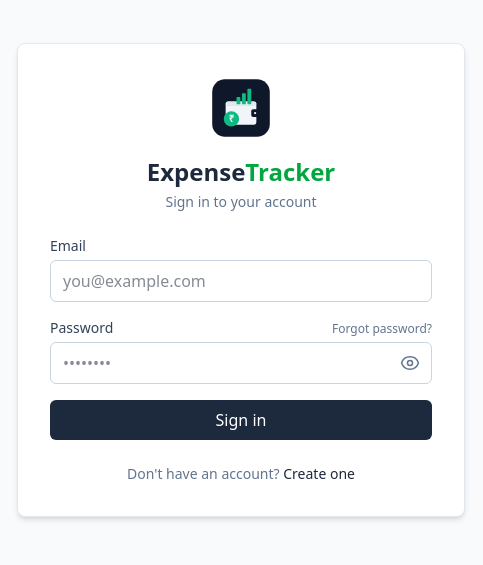
Test: LoginPage › shows backend error detail on failure
Type "a@b.com" into the field labelled "Email" at (241, 281), box [50, 260, 432, 302]
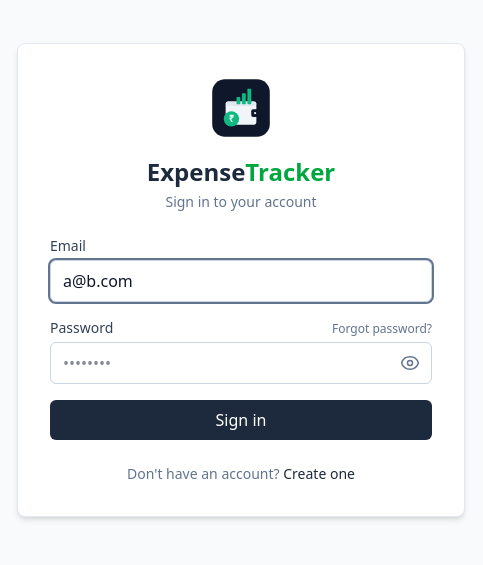
Type "wrong" into the password field labelled "Password" at (241, 363), box [50, 342, 432, 384]
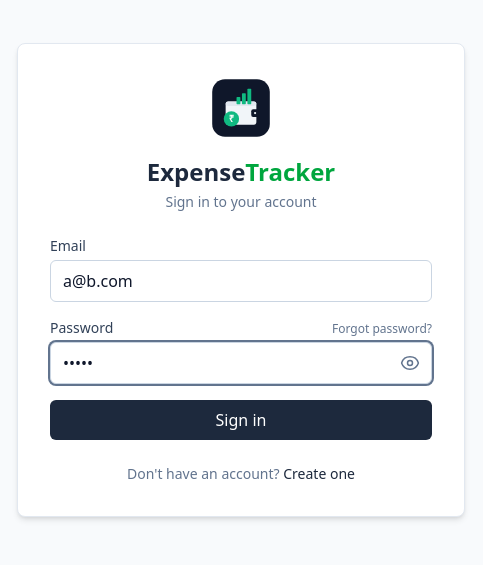
Click the button "Sign in" at (241, 420), box [50, 400, 432, 440]
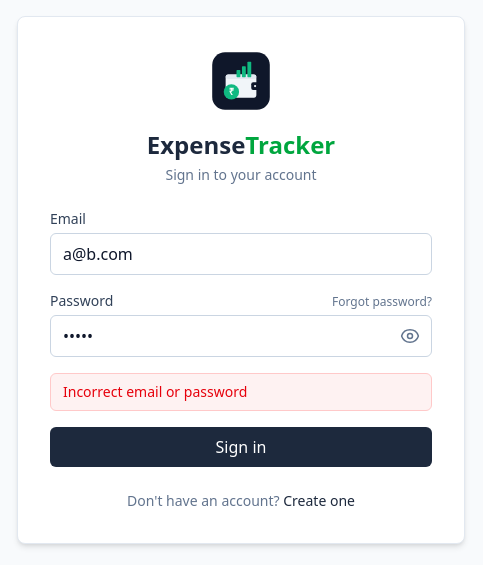
Check: the text "Incorrect email or password" is shown, box [50, 373, 432, 411]
